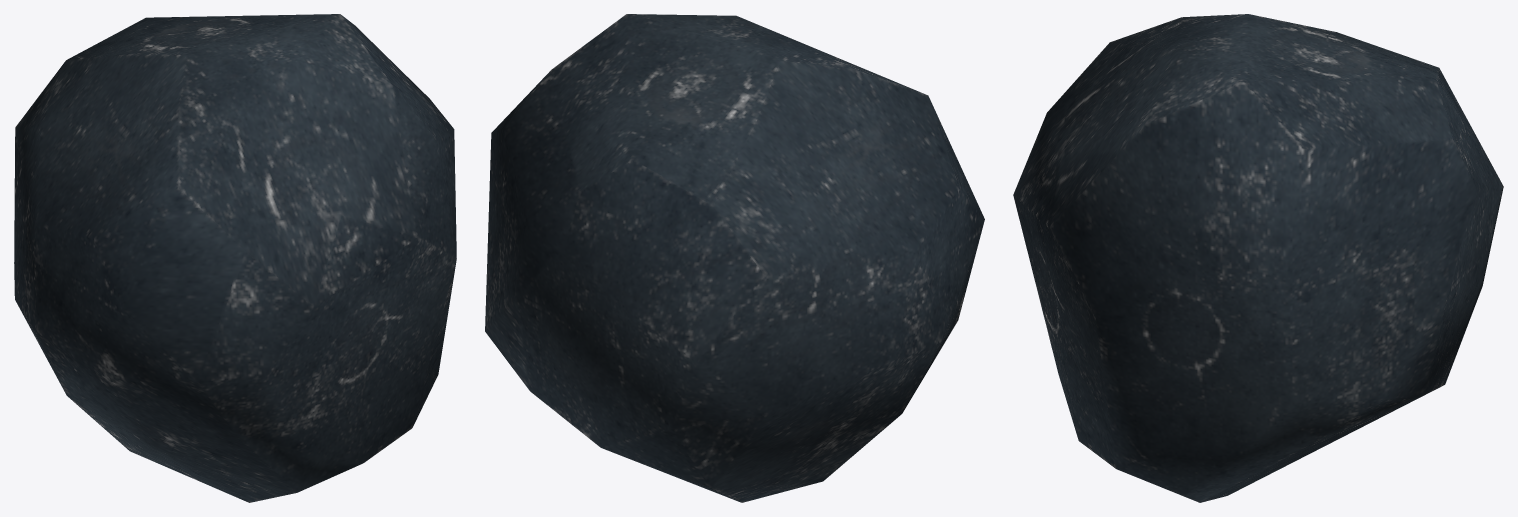
File: Asteroid_1.fbx
3 views of the same model, side by side, from view 1: azimuth 30°, elevation 25°; view 2: azimuth 150°, elevation 25°; view 3: azimuth 270°, elevation 25° (orthographic). The views are drawn at different scales.
Visible parts, largest first — view 1: Asteroid_1_Low; view 2: Asteroid_1_Low; view 3: Asteroid_1_Low.
Part boxes in pixels (x1,y1,x2,y2): Asteroid_1_Low: (14,14,456,502); Asteroid_1_Low: (485,14,984,502); Asteroid_1_Low: (1013,14,1503,502).
Bounding box in the file's own units: 2.1 × 2.15 × 2.1.
